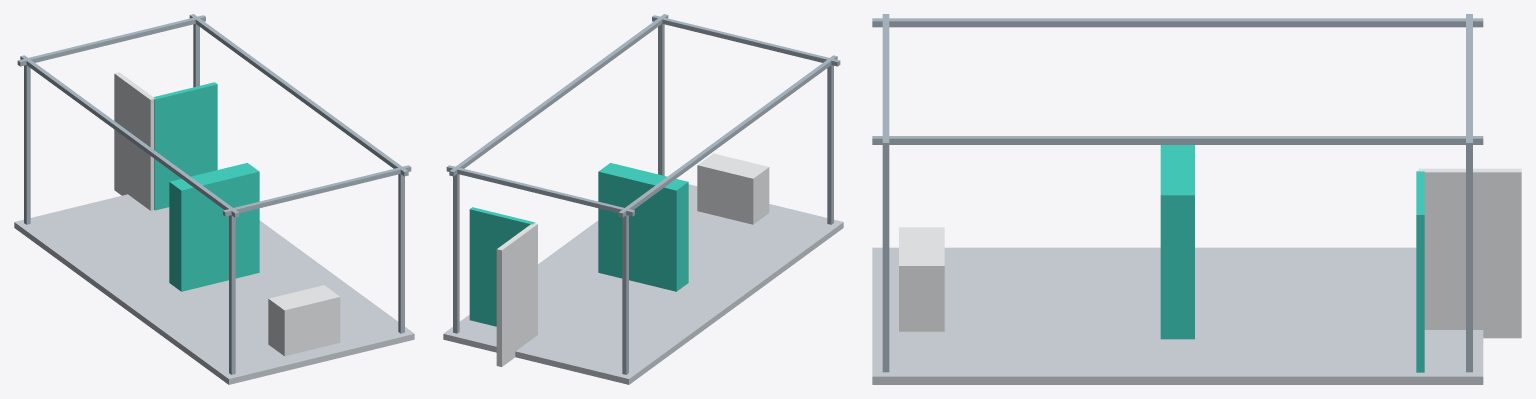
The picture shows the model from 3 angles, left to right: view 1: azimuth 30°, elevation 25°; view 2: azimuth 150°, elevation 25°; view 3: azimuth 270°, elevation 25°; orthographic projection. The views are drawn at different scales.
Parts seen in each view (by area): view 1: Exhibition Booth Concept; view 2: Exhibition Booth Concept; view 3: Exhibition Booth Concept.
Part boxes in pixels (x1,y1,x2,y2): Exhibition Booth Concept: [14, 14, 414, 384]; Exhibition Booth Concept: [443, 14, 843, 384]; Exhibition Booth Concept: [872, 14, 1521, 384].
Size of the model in its own units: 4 by 3.49 by 8.51.
